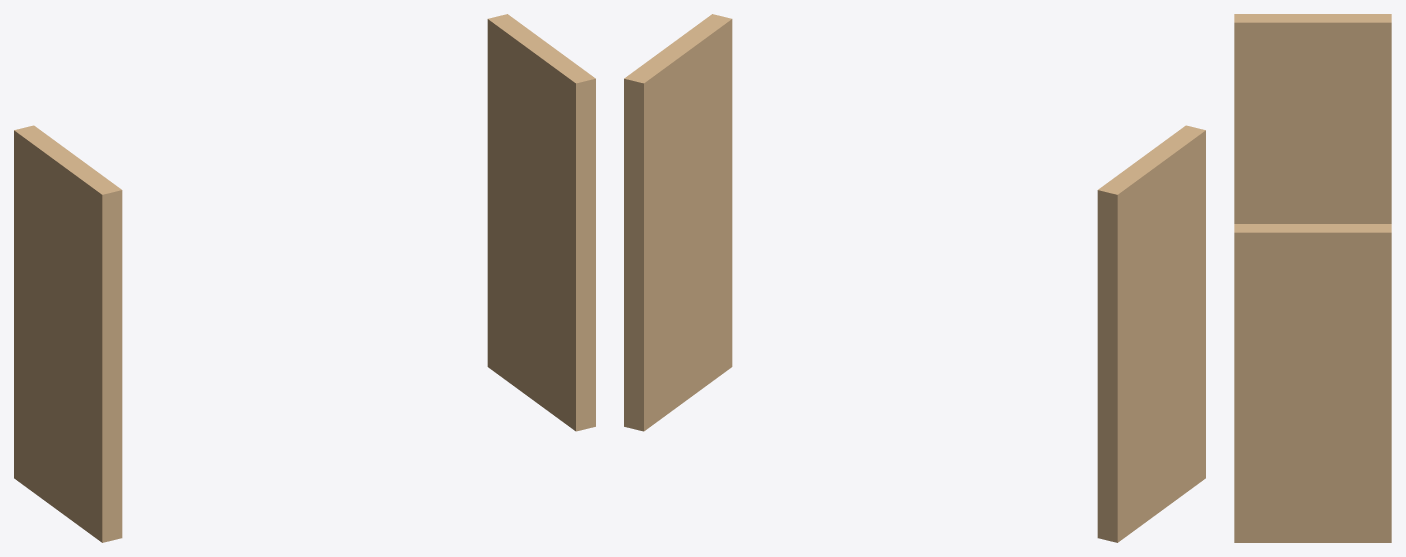
The model's file is tinker.obj.
3 views of the same model, side by side, from view 1: azimuth 30°, elevation 25°; view 2: azimuth 150°, elevation 25°; view 3: azimuth 270°, elevation 25° (orthographic). The views are drawn at different scales.
Parts seen in each view (by area): view 1: obj_0; view 2: obj_0; view 3: obj_0.
Part boxes in pixels (x1,y1,x2,y2): obj_0: [14, 14, 595, 542]; obj_0: [624, 14, 1205, 542]; obj_0: [1234, 14, 1391, 542].
Size of the model in its own units: 371 by 253 by 115.
